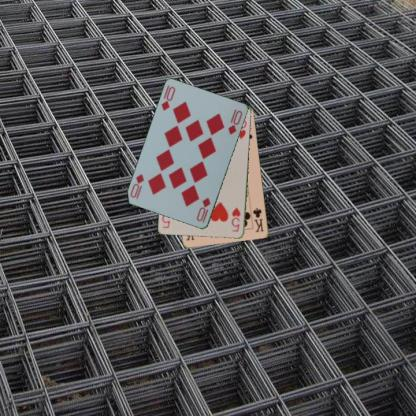10d: (194, 195, 212, 224), (159, 84, 177, 112)
5h: (230, 205, 242, 233)
Kc: (250, 206, 264, 233)
